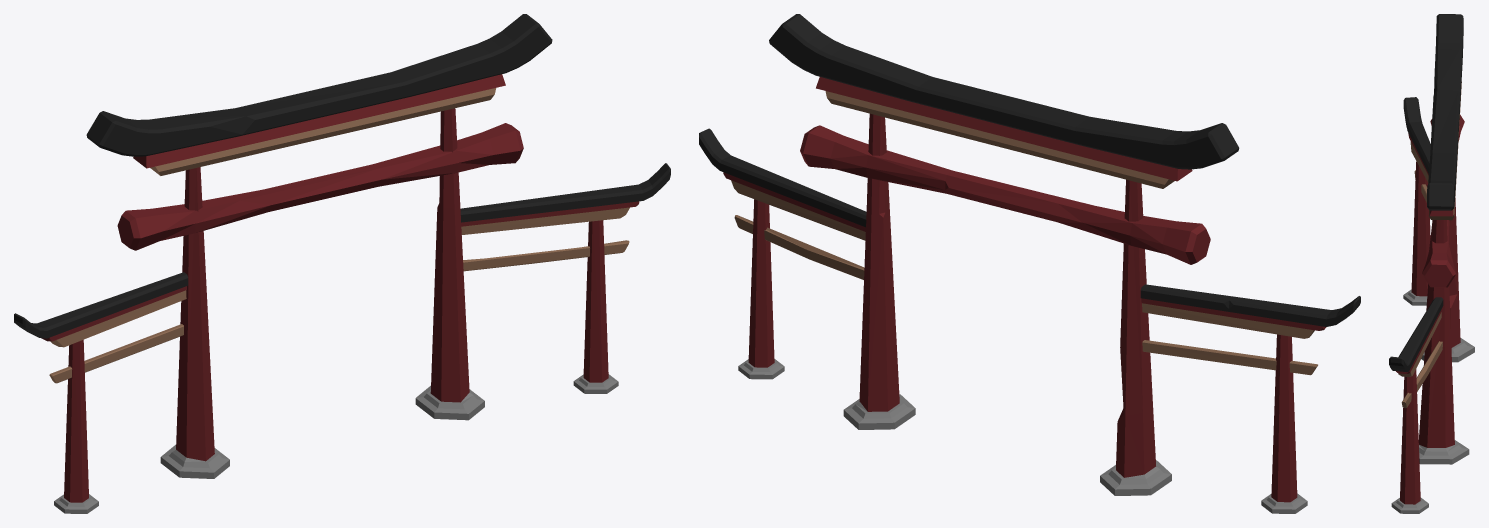
Rendered from Tora _1 Asia.fbx.
3 renders of one model, left to right at view 1: azimuth 30°, elevation 25°; view 2: azimuth 150°, elevation 25°; view 3: azimuth 270°, elevation 25°, orthographic. The views are drawn at different scales.
Parts seen in each view (by area): view 1: Tora _1; view 2: Tora _1; view 3: Tora _1.
Boxes of the visible parts, x1,y1,x2,y2 form: Tora _1: (14,14,670,513); Tora _1: (699,14,1360,513); Tora _1: (1389,14,1474,513).
Bounding box in the file's own units: 6.58 × 3.57 × 0.9124.
